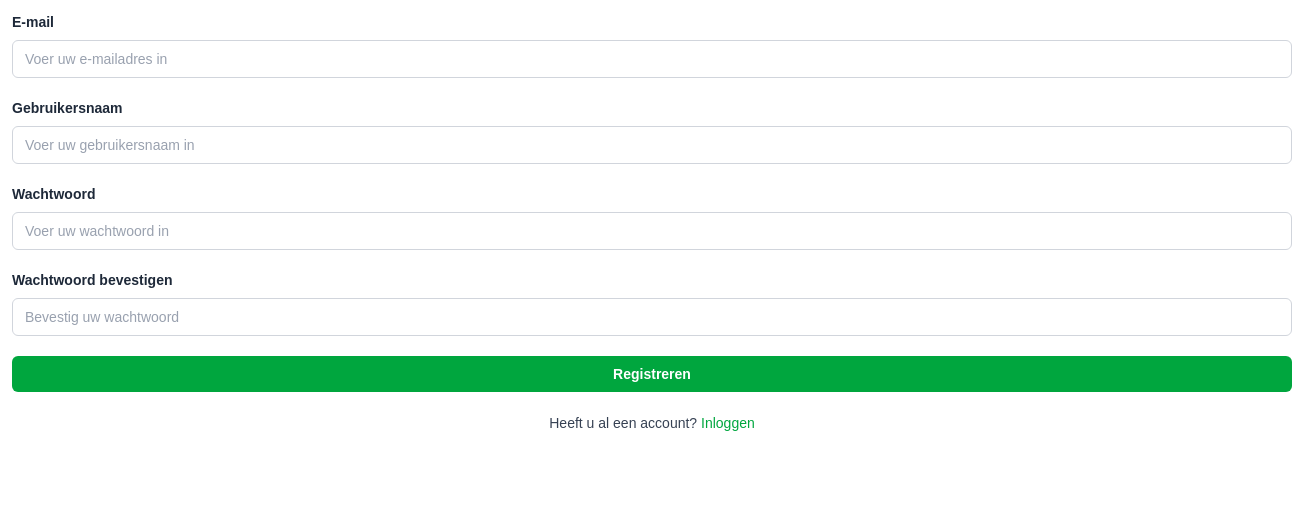
Test case: RegisterForm › shows conflict error on 409 response
The image size is (1304, 506).
Type "user@example.com" into the field with test id "email-input" at (652, 59), box [12,40,1292,78]
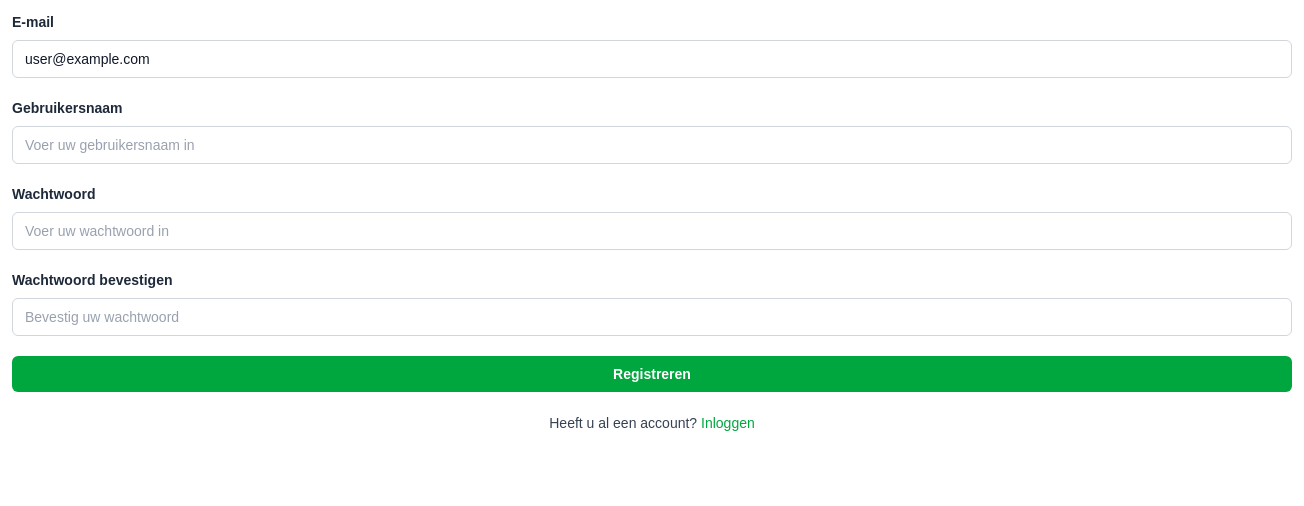
Type "testuser" into the field with test id "username-input" at (652, 145), box [12,126,1292,164]
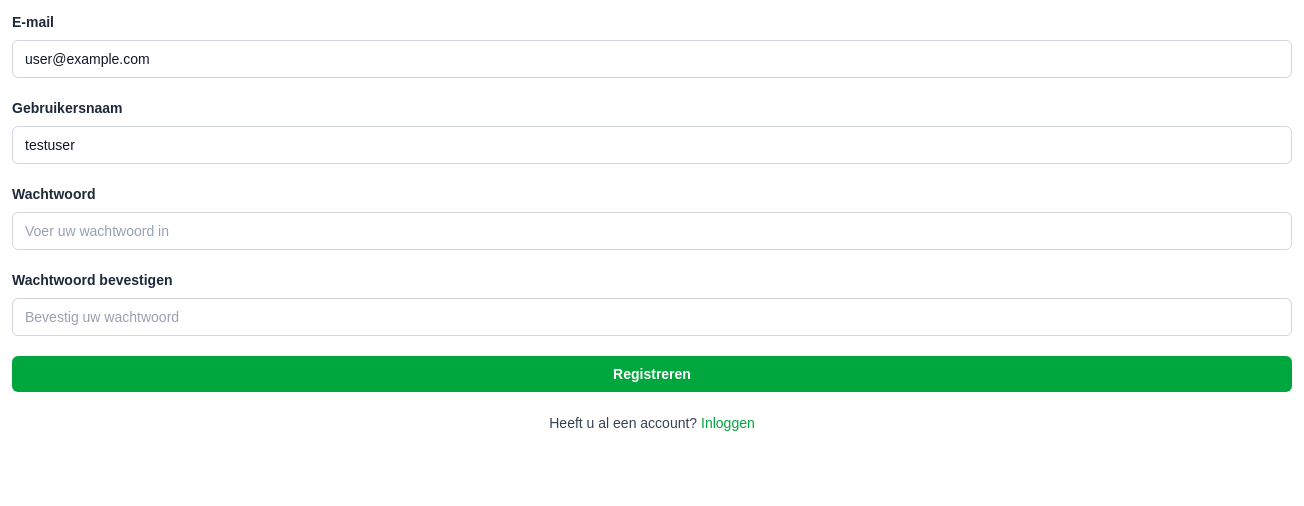
Type "password123" into the password field with test id "password-input" at (652, 231), box [12,212,1292,250]
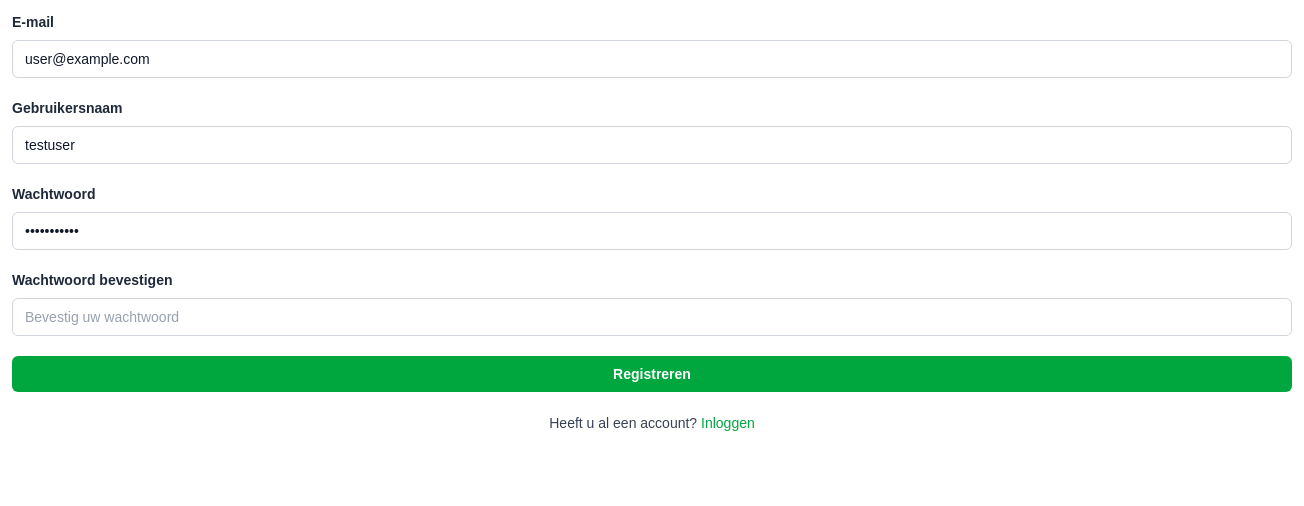
Type "password123" into the password field with test id "confirm-password-input" at (652, 317), box [12,298,1292,336]
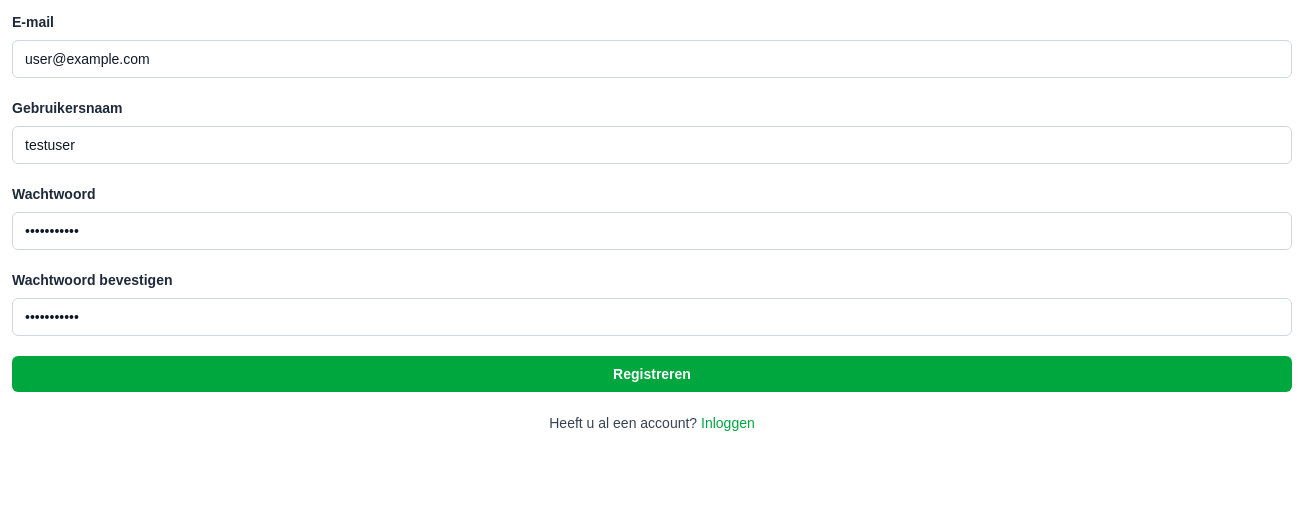
Click the button with test id "register-button" at (652, 374), box [12,356,1292,392]
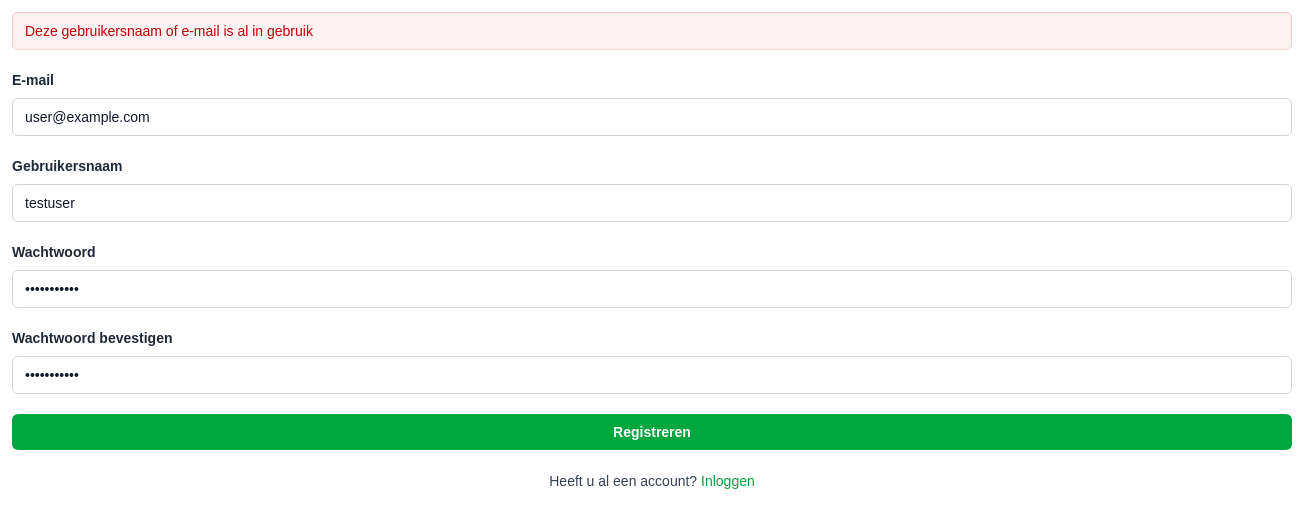
Now the message "Deze gebruikersnaam of e-mail is al in gebruik" is shown, box [12,12,1292,50]
Now the message with test id "register-error" shows "al in gebruik", box [25,23,313,39]
